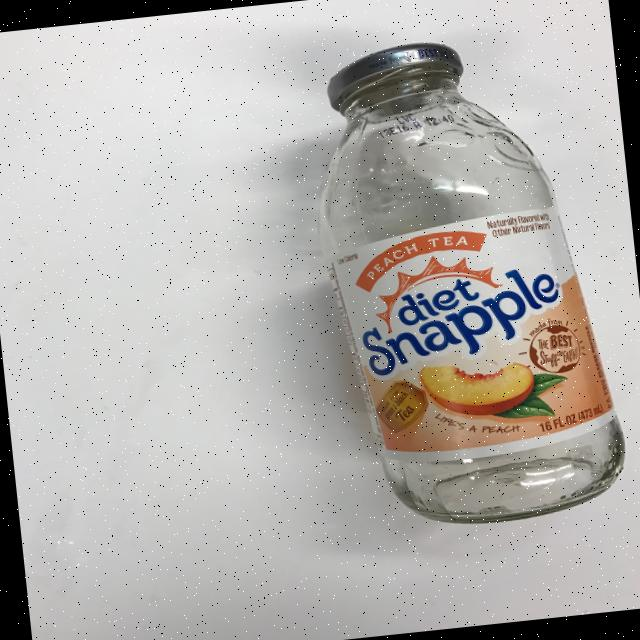glass: (298, 25, 632, 538)
